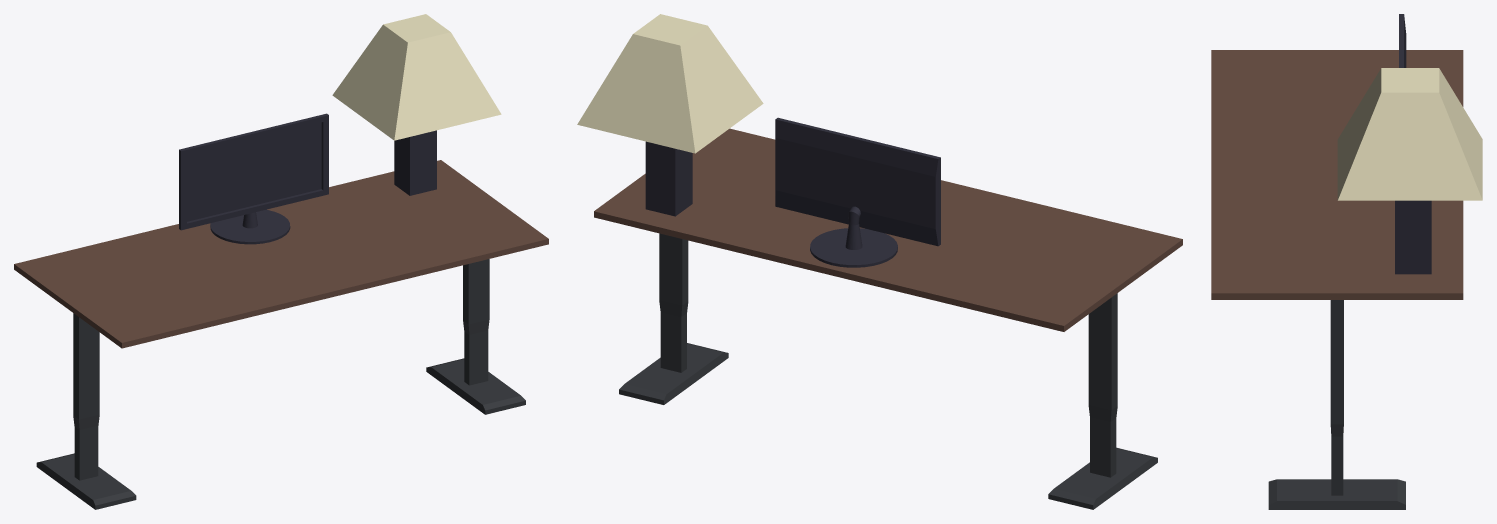
3 renders of one model, left to right at view 1: azimuth 30°, elevation 25°; view 2: azimuth 150°, elevation 25°; view 3: azimuth 270°, elevation 25°, orthographic. The views are drawn at different scales.
Visible parts, largest first — view 1: desk, Circle, Cube, Cube.001; view 2: desk, Circle, Cube, Cube.001; view 3: desk, Cube, Cube.001, Circle.
Boxes of the visible parts, box(x1,y1,x2,y2) form: desk: box(14, 160, 548, 509); Circle: box(179, 113, 328, 244); Cube: box(332, 14, 501, 140); Cube.001: box(394, 130, 436, 195); desk: box(594, 128, 1182, 509); Circle: box(775, 117, 940, 267); Cube: box(577, 14, 763, 153); Cube.001: box(645, 141, 692, 216); desk: box(1211, 50, 1463, 509); Cube: box(1337, 68, 1482, 200); Cube.001: box(1395, 200, 1431, 274); Circle: box(1399, 14, 1406, 67).
Size of the model in its own units: 1.63 by 1.23 by 0.7538.
